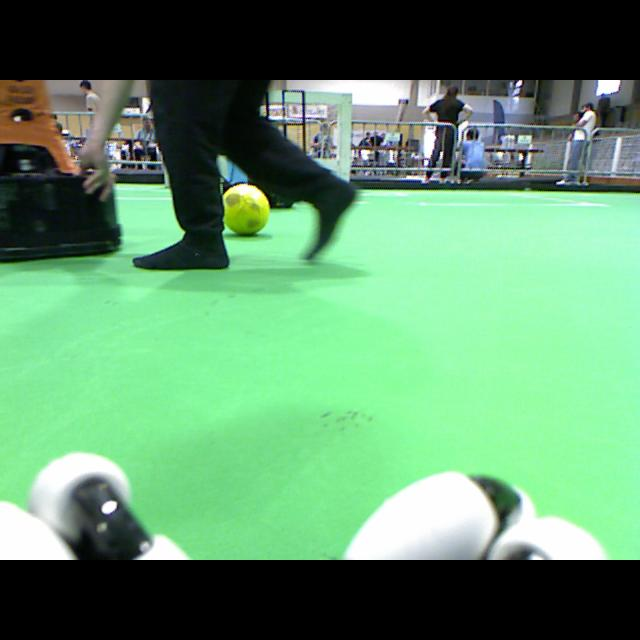ball: (221, 185, 268, 235)
goal: (338, 93, 352, 184)
robot: (0, 81, 121, 262)
